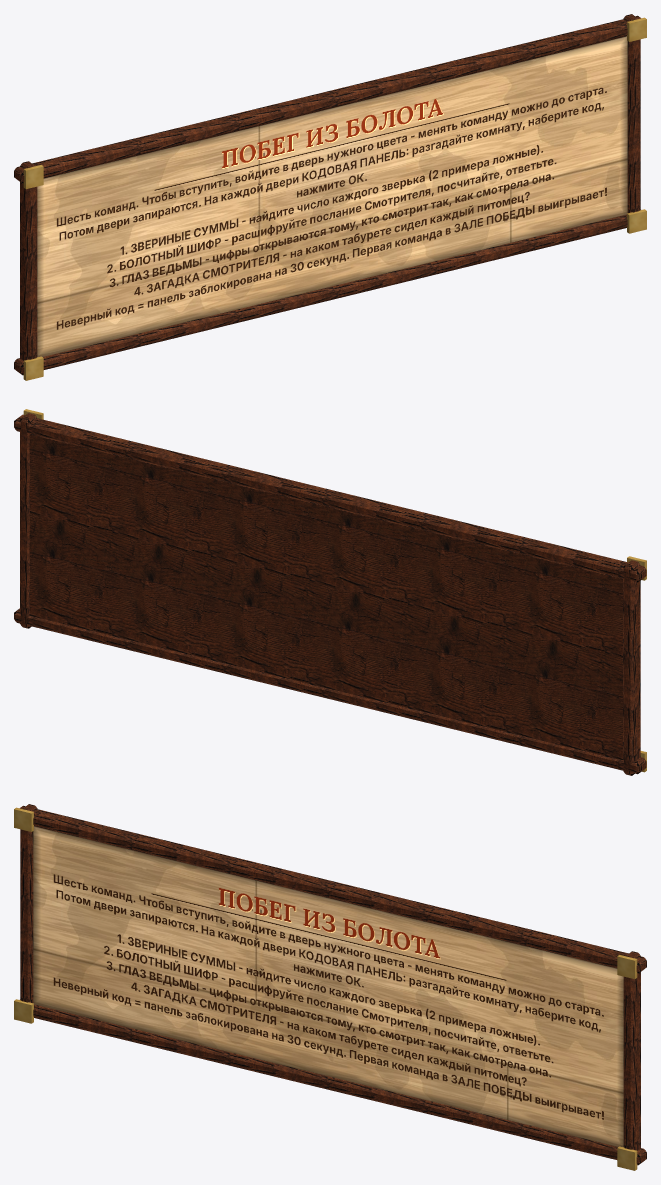
File: sg_ru_escape_rules.glb
3 views of the same model, one above another, from view 1: azimuth 30°, elevation 25°; view 2: azimuth 150°, elevation 25°; view 3: azimuth 330°, elevation 25° (orthographic).
Parts seen in each view (by area): view 1: spire; view 2: spire; view 3: spire.
Part boxes in pixels (x1=…): spire: x1=14, y1=14, x2=646, y2=380; spire: x1=14, y1=409, x2=646, y2=775; spire: x1=14, y1=804, x2=646, y2=1170.
Size of the model in its own units: 6.36 by 2.04 by 0.19.
3 materials, 3 textured.
